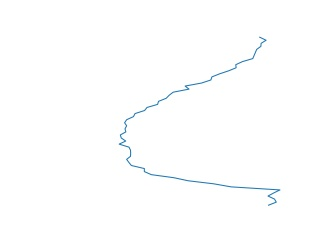underwaterDistributaryChannel: (115, 36, 284, 207)
